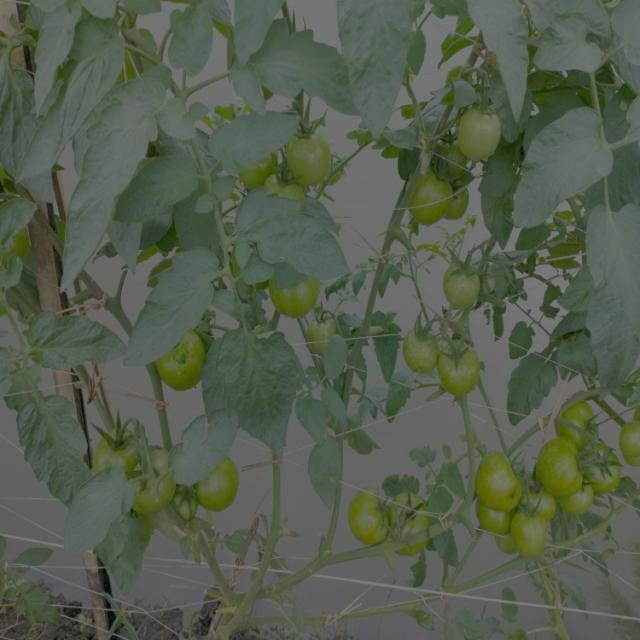tomato: (100, 421, 143, 485), (462, 111, 510, 168), (442, 268, 493, 320), (155, 330, 206, 381), (442, 335, 486, 393), (478, 454, 525, 508), (397, 491, 437, 553), (196, 456, 241, 511), (274, 277, 323, 325), (285, 127, 330, 177), (405, 179, 449, 227), (544, 444, 586, 492), (138, 457, 175, 511), (236, 157, 275, 197), (474, 509, 516, 546), (355, 497, 390, 540), (520, 513, 552, 558), (562, 403, 598, 442), (593, 448, 623, 491), (528, 478, 557, 516), (410, 336, 437, 375), (277, 177, 310, 207), (306, 326, 339, 354), (620, 417, 640, 458), (562, 481, 592, 503)
